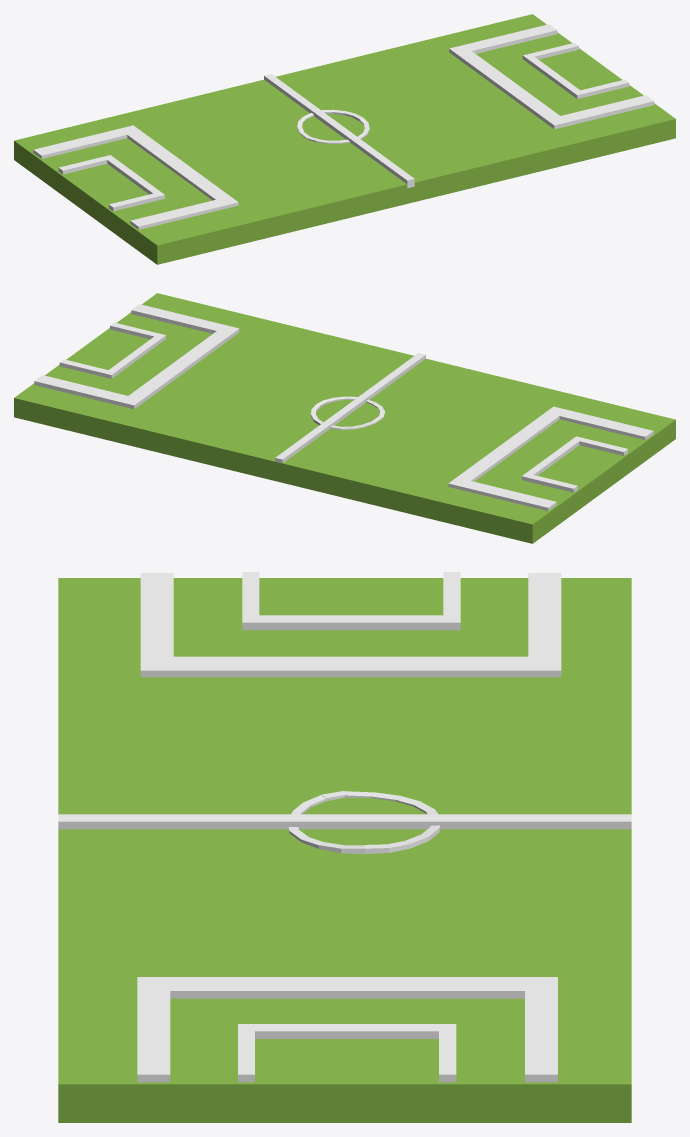
File: Soccer Field.glb
3 views of the same model, one above another, from view 1: azimuth 30°, elevation 25°; view 2: azimuth 150°, elevation 25°; view 3: azimuth 270°, elevation 25° (orthographic). The views are drawn at different scales.
Visible parts, largest first — view 1: Node; view 2: Node; view 3: Node.
Boxes of the visible parts, box(x1,y1,x2,y2) form: Node: box(14, 14, 675, 264); Node: box(14, 293, 675, 543); Node: box(58, 572, 631, 1122).
Bounding box in the file's own units: 1.4 × 0.06 × 0.67.
